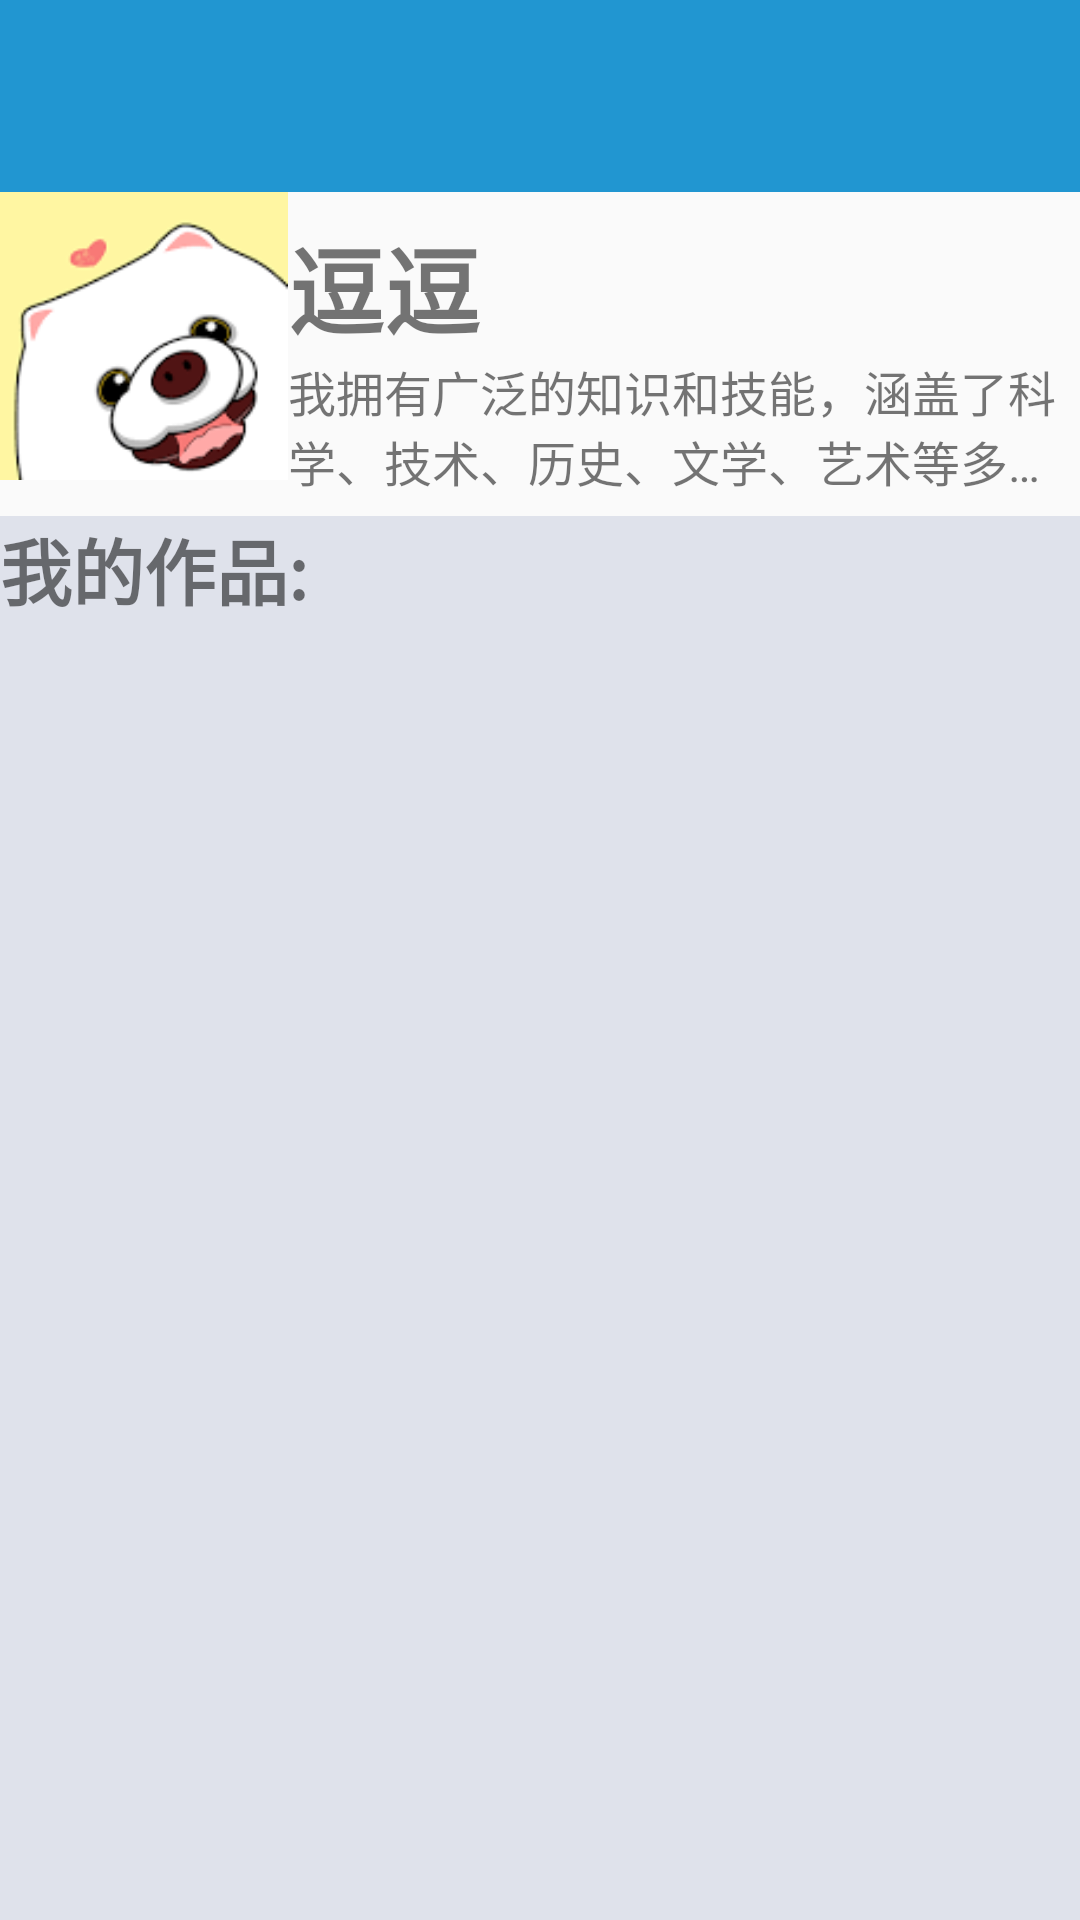

Where icons sit on this 1080px x 1920px app screen, as bbox=(x1, y1, x2, y2):
head: bbox=(0, 192, 288, 480)
